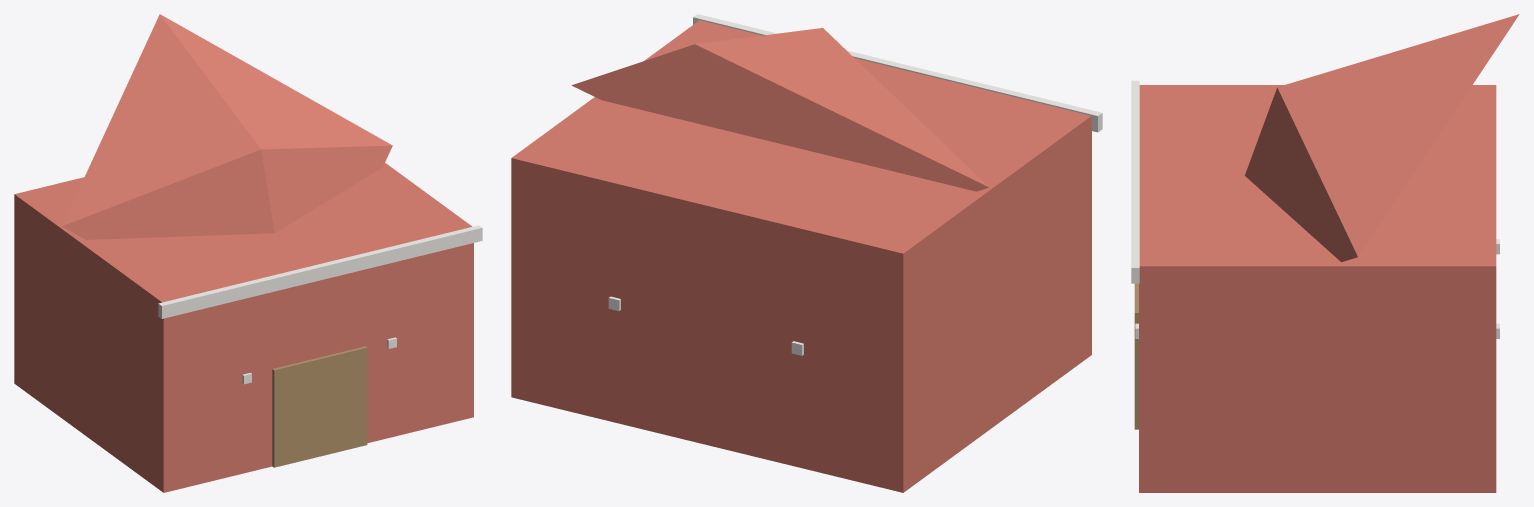
File: SM_Env_Barn_01.glb
The picture shows the model from 3 angles, left to right: view 1: azimuth 30°, elevation 25°; view 2: azimuth 150°, elevation 25°; view 3: azimuth 270°, elevation 25°; orthographic projection. The views are drawn at different scales.
Parts seen in each view (by area): view 1: SM_Barn_Wall, SM_Barn_Roof, SM_Barn_Door, SM_Barn_RoofTrim; view 2: SM_Barn_Wall, SM_Barn_Roof, SM_Barn_RoofTrim; view 3: SM_Barn_Wall, SM_Barn_Roof, SM_Barn_RoofTrim, SM_Barn_Door.
Part boxes in pixels (x1,y1,x2,y2): SM_Barn_Wall: (14,163,473,492); SM_Barn_Roof: (62,14,392,239); SM_Barn_Door: (272,346,367,467); SM_Barn_RoofTrim: (158,225,482,318); SM_Barn_Wall: (511,20,1091,492); SM_Barn_Roof: (571,28,988,191); SM_Barn_RoofTrim: (693,14,1102,132); SM_Barn_Wall: (1139,85,1496,492); SM_Barn_Roof: (1245,14,1519,262); SM_Barn_RoofTrim: (1131,80,1139,283); SM_Barn_Door: (1134,283,1138,429).
Bounding box in the file's own units: 6.4 × 6 × 5.44.
